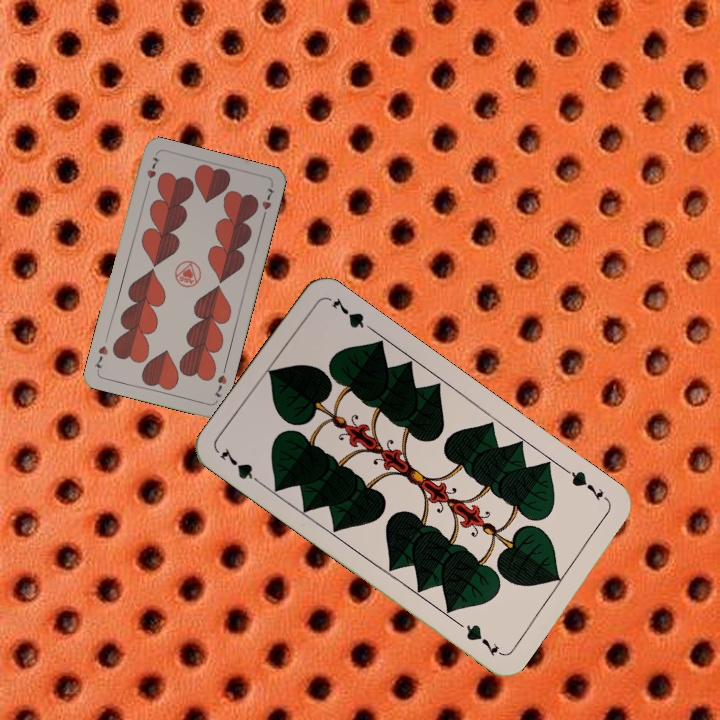G7: (215, 445, 266, 489), (561, 465, 612, 505)
H7: (142, 151, 163, 191), (210, 364, 229, 400)
